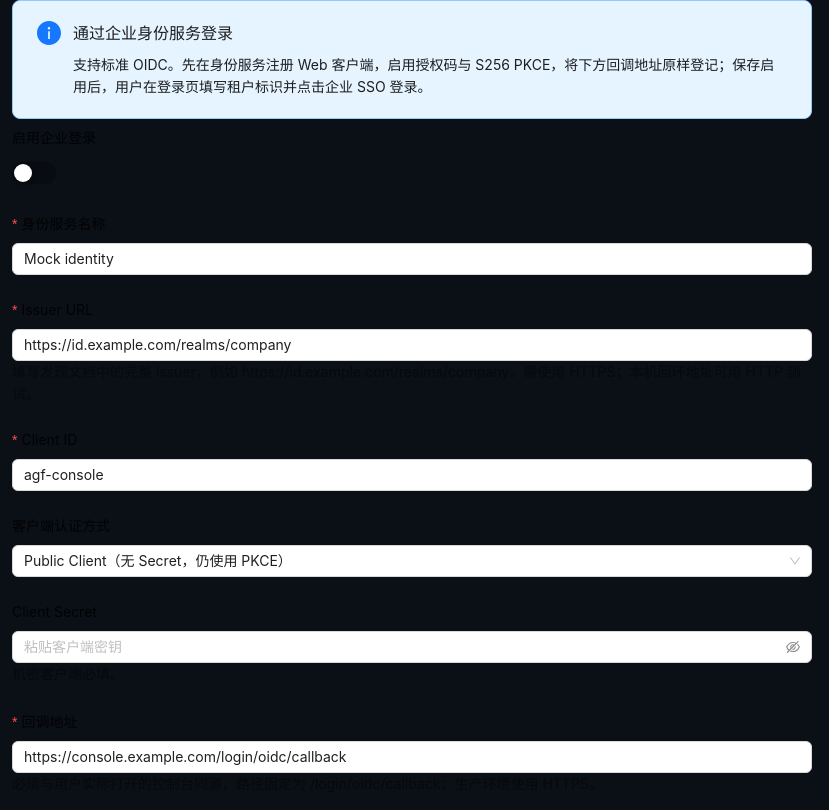
Test case: submits the loaded revision and keeps a conflicting sign-in draft
Replace the text in the field labelled "身份服务名称" with "My draft" at (412, 259), box [12, 243, 812, 275]
(page scrolled)
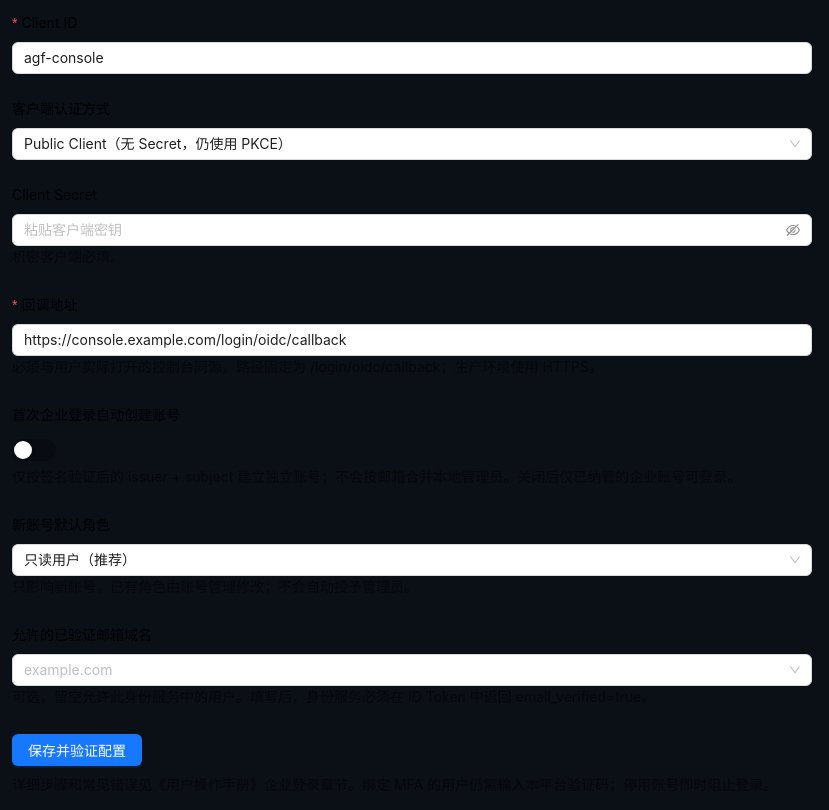
Click the button "保存并验证配置" at (77, 750), box [12, 734, 142, 766]
(page scrolled)
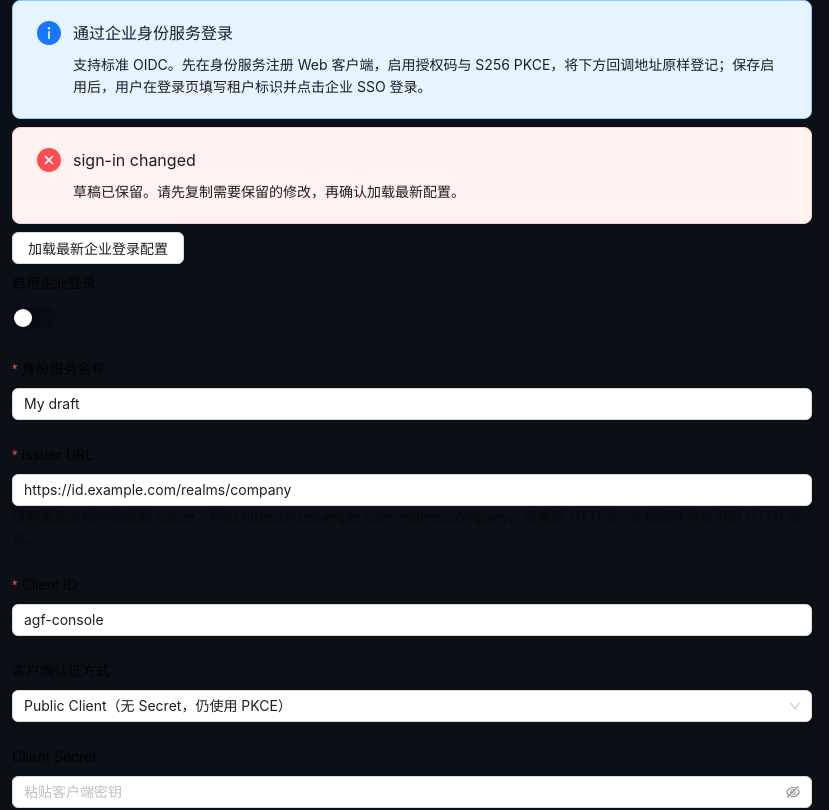
Expected: the text "sign-in changed" is shown, [73, 150, 196, 170]
Expected: the button "加载最新企业登录配置" is shown, [12, 232, 184, 264]
